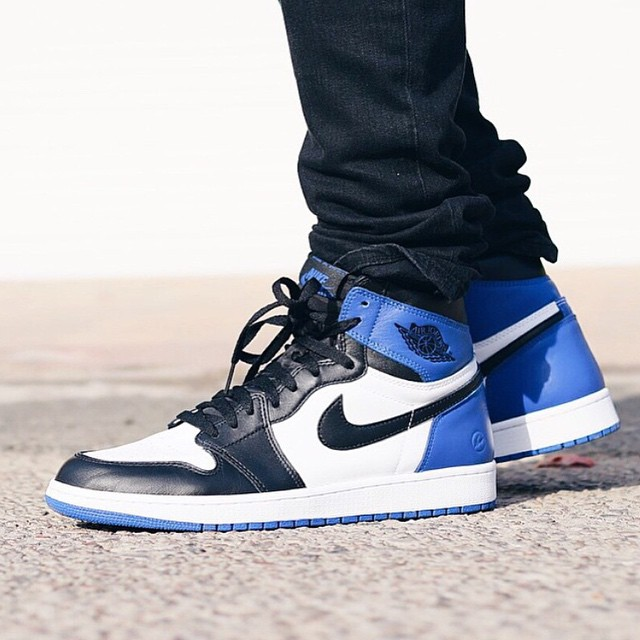sneaker: (26, 240, 525, 561), (433, 229, 640, 499)
